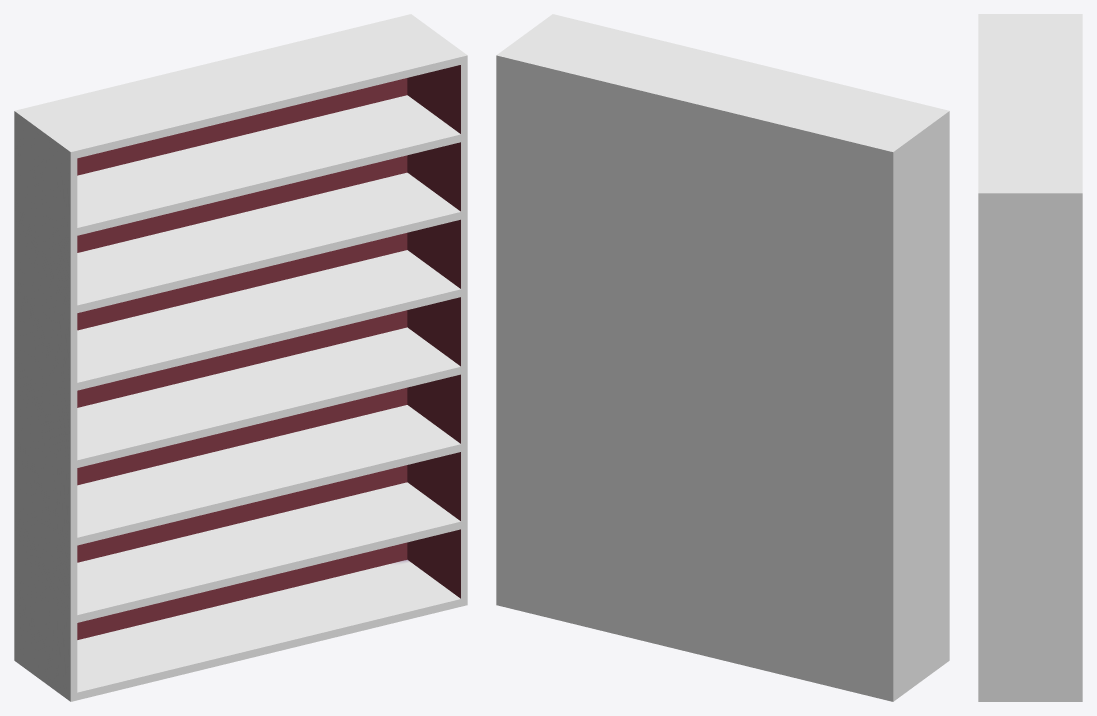
File: Estanteria basicaRojayBlanca.fbx
The picture shows the model from 3 angles, left to right: view 1: azimuth 30°, elevation 25°; view 2: azimuth 150°, elevation 25°; view 3: azimuth 270°, elevation 25°; orthographic projection. The views are drawn at different scales.
Parts seen in each view (by area): view 1: Estanteria; view 2: Estanteria; view 3: Estanteria.
Part boxes in pixels (x1,y1,x2,y2): Estanteria: (14, 14, 467, 701); Estanteria: (496, 14, 949, 701); Estanteria: (978, 14, 1082, 701).
Size of the model in its own units: 200 by 265 by 49.35.
